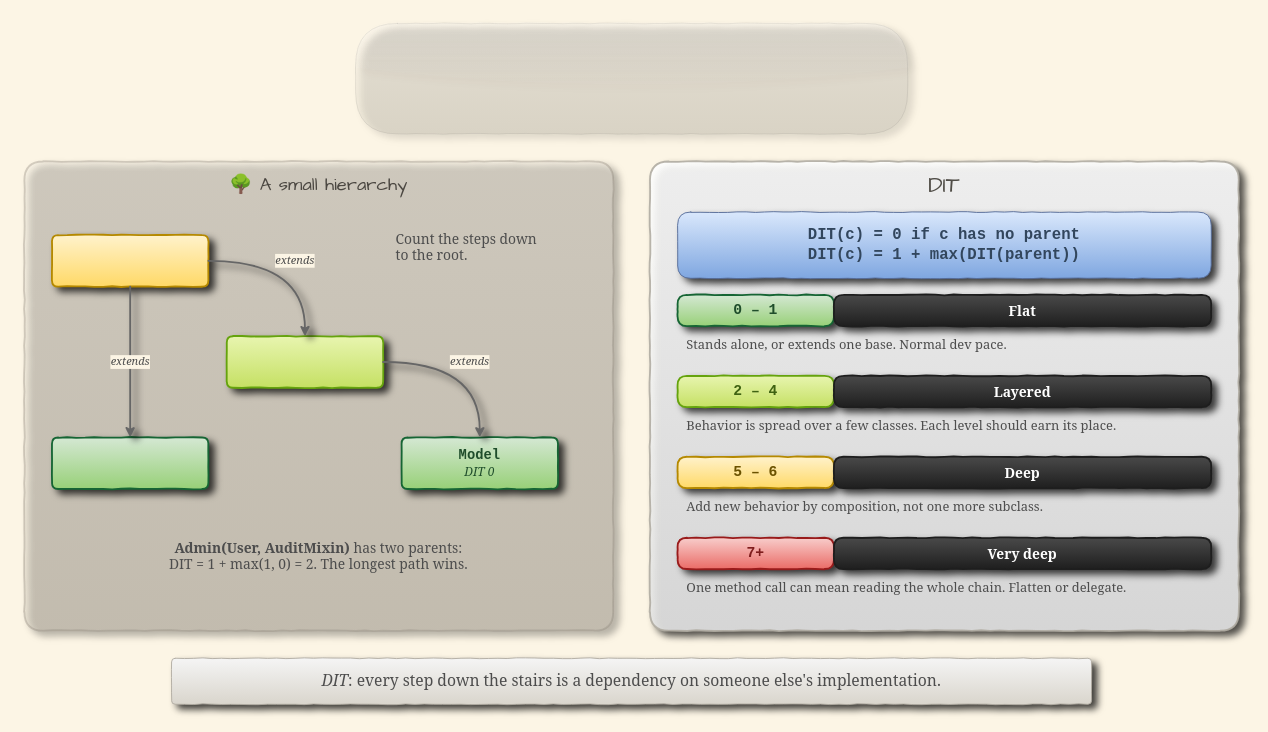
Some shapes in this 1268 by 732 pixel diagram are drawn without their labels. The centre of each missing label's shape, as x and y in pixels:
Admin DIT 2: (132,262)
AuditMixin DIT 0: (132,465)
Depth of Inheritance Tree How many ancestors deep? by Steven Miers: (633,80)
User DIT 1: (307,364)
